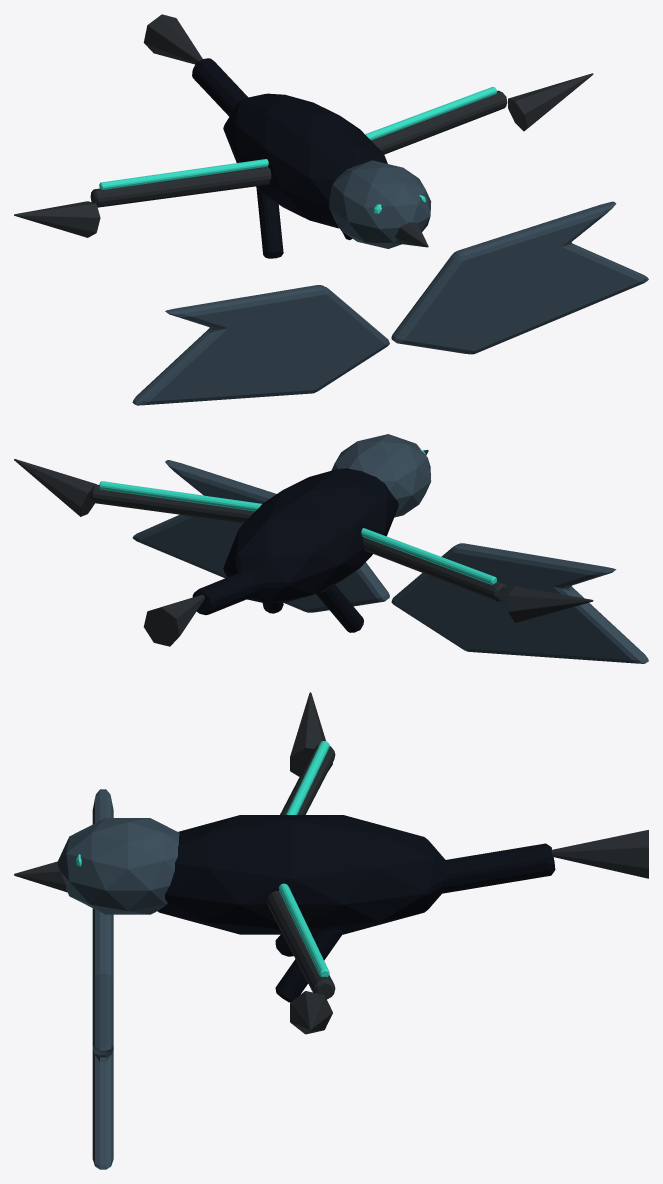
The model's file is Prismora_Rapido_V1.fbx.
3 renders of one model, top to bottom at view 1: azimuth 30°, elevation 25°; view 2: azimuth 150°, elevation 25°; view 3: azimuth 270°, elevation 25°, orthographic. The views are drawn at different scales.
Visible parts, largest first — view 1: Rapido_Body, Rapido_Energy; view 2: Rapido_Body, Rapido_Energy; view 3: Rapido_Body, Rapido_Energy.
Boxes of the visible parts, bbox=[...] form: Rapido_Body: bbox=[14, 14, 648, 405]; Rapido_Energy: bbox=[99, 87, 496, 213]; Rapido_Body: bbox=[14, 434, 648, 663]; Rapido_Energy: bbox=[99, 449, 496, 584]; Rapido_Body: bbox=[14, 692, 648, 1169]; Rapido_Energy: bbox=[76, 741, 329, 977].
Size of the model in its own units: 7.69 by 2.52 by 6.13.
Materials: 3 (2 with a texture image).
